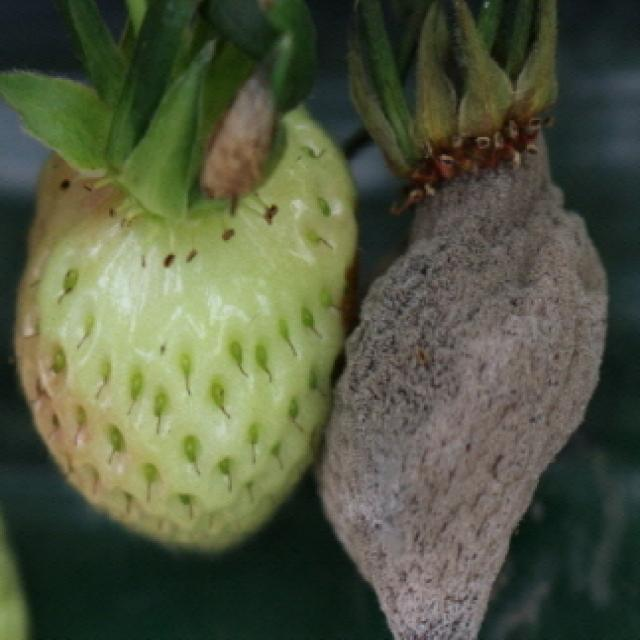Gray Mold: (313, 109, 611, 640)
